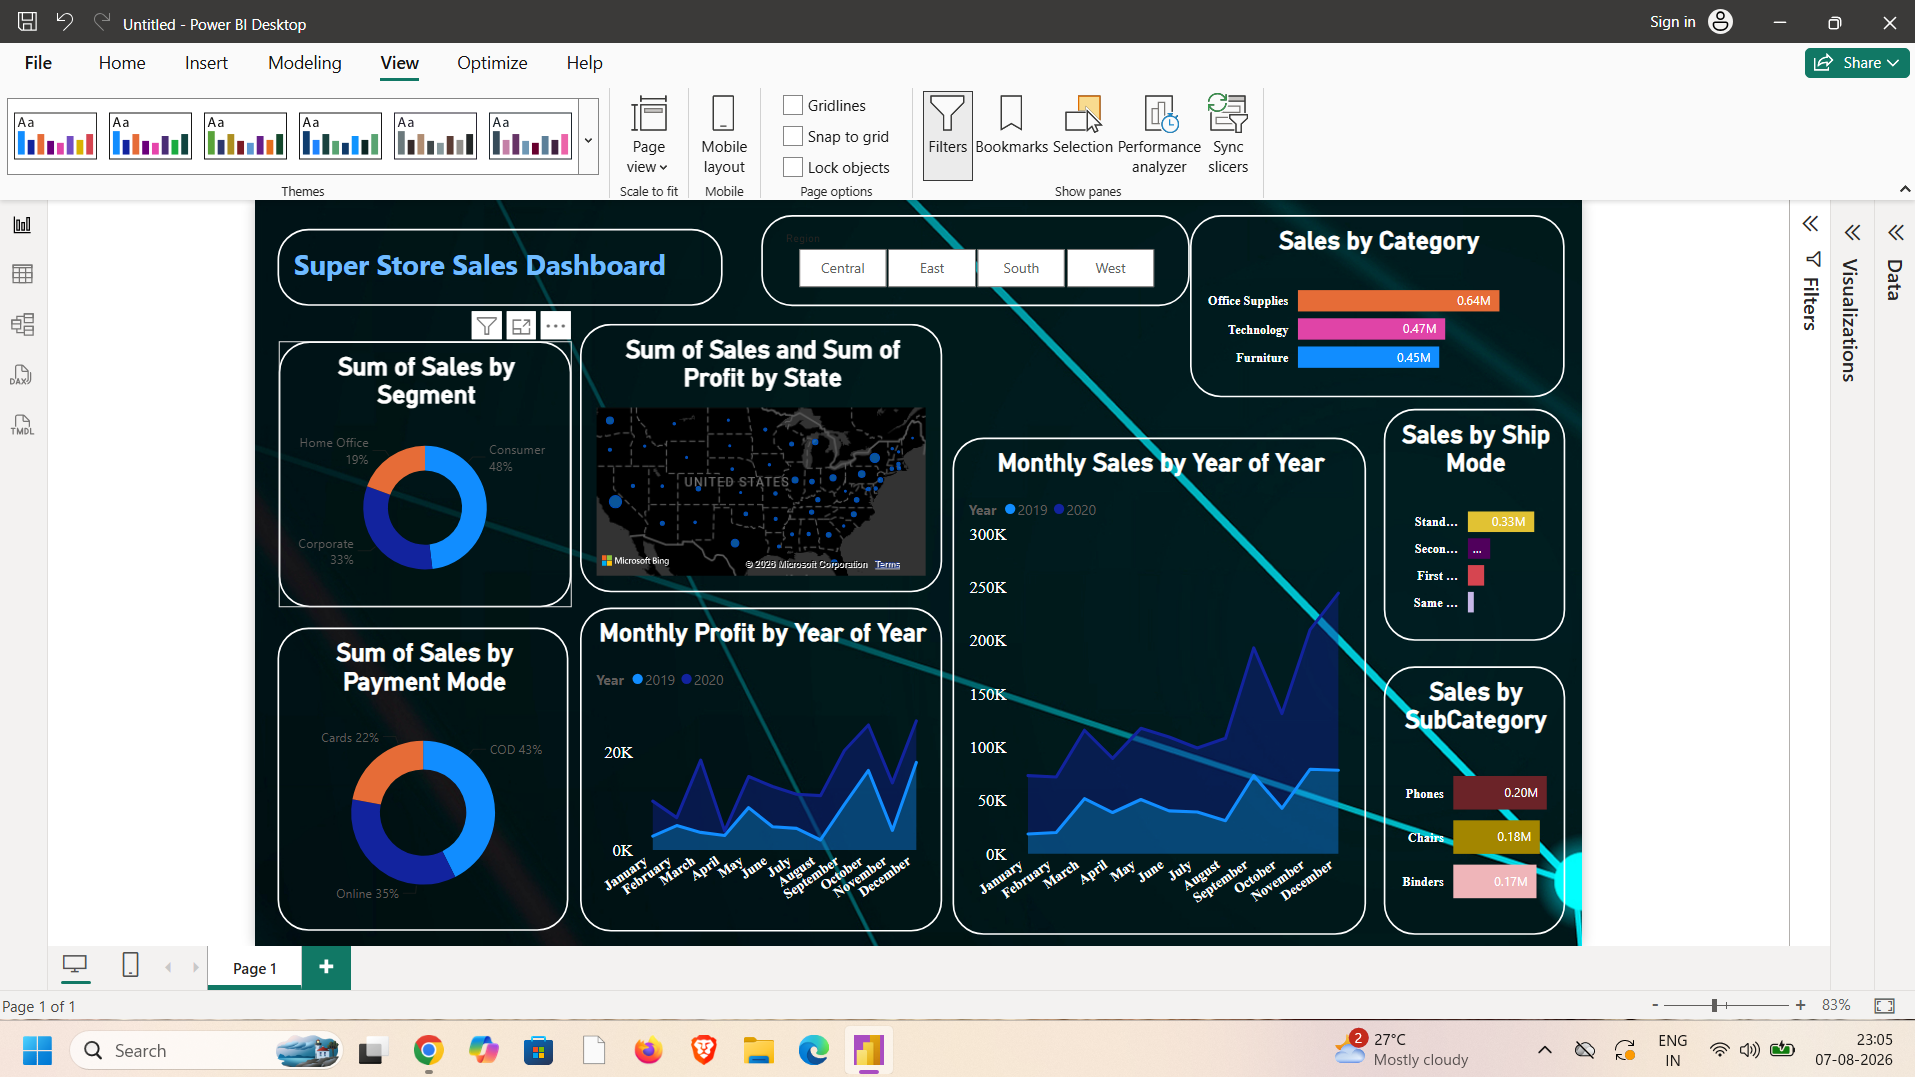

Layout of this report page (visuals, bound fields, positions):
{"tool":"powerbi","page":{"name":"Page 1","canvas":[1280,720],"ordinal":0},"visuals":[{"type":"clusteredBarChart","title":"Sales by Category","fields":{"Category":["SuperStore_Sales_Dataset.Category"],"Y":["Sum(SuperStore_Sales_Dataset.Sales)"]},"box":[902.4,14.5,361.9,176.1],"z":0},{"type":"clusteredBarChart","title":"Sales by SubCategory","fields":{"Category":["SuperStore_Sales_Dataset.Sub-Category"],"Y":["Sum(SuperStore_Sales_Dataset.Sales)"]},"box":[1089.4,450,174.9,259.4],"z":1},{"type":"clusteredBarChart","title":"Sales by Ship Mode","fields":{"Category":["SuperStore_Sales_Dataset.Ship Mode"],"Y":["Sum(SuperStore_Sales_Dataset.Sales)"]},"box":[1089.4,201.5,174.9,224.4],"z":2},{"type":"stackedAreaChart","title":"Monthly Sales by Year of Year","fields":{"Y":["Sum(SuperStore_Sales_Dataset.Sales)"],"Category":["SuperStore_Sales_Dataset.Order Date.Variation.Date Hierarchy.Month","SuperStore_Sales_Dataset.Order Date.Variation.Date Hierarchy.Day"],"Series":["SuperStore_Sales_Dataset.Order Date.Variation.Date Hierarchy.Year"]},"box":[673.2,229.2,399.3,480.2],"z":3},{"type":"stackedAreaChart","title":"Monthly Profit by Year of Year","fields":{"Category":["SuperStore_Sales_Dataset.Order Date.Variation.Date Hierarchy.Month","SuperStore_Sales_Dataset.Order Date.Variation.Date Hierarchy.Day"],"Series":["SuperStore_Sales_Dataset.Order Date.Variation.Date Hierarchy.Year"],"Y":["Sum(SuperStore_Sales_Dataset.Profit)"]},"box":[313.7,393.3,349.9,312.5],"z":4},{"type":"map","fields":{"Category":["SuperStore_Sales_Dataset.State"],"Size":["Sum(SuperStore_Sales_Dataset.Sales)"]},"box":[313.7,119.4,349.9,259.4],"z":5},{"type":"donutChart","fields":{"Category":["SuperStore_Sales_Dataset.Payment Mode"],"Y":["Sum(SuperStore_Sales_Dataset.Sales)"]},"box":[21.7,412.6,281.1,293.2],"z":6},{"type":"slicer","fields":{"Values":["SuperStore_Sales_Dataset.Region"]},"box":[477.8,20.5,413.8,88.1],"z":8},{"type":"textbox","box":[21.7,27.7,429.5,74.8],"z":9},{"type":"donutChart","fields":{"Category":["SuperStore_Sales_Dataset.Segment"],"Y":["Sum(SuperStore_Sales_Dataset.Sales)"]},"box":[22.9,136.3,282.3,257],"z":10}]}

Visuals, with their boxes on the page's 1280x720 design canvas (x1, y1, x2, y2). These are canvas units, not pixel positions in the 1915x1077 screenshot, which may show the page scaled, cropped or inside an application window:
"Sales by Category" clusteredBarChart: region(902, 14, 1264, 191)
"Sales by SubCategory" clusteredBarChart: region(1089, 450, 1264, 709)
"Sales by Ship Mode" clusteredBarChart: region(1089, 202, 1264, 426)
"Monthly Sales by Year of Year" stackedAreaChart: region(673, 229, 1072, 709)
"Monthly Profit by Year of Year" stackedAreaChart: region(314, 393, 664, 706)
map - SuperStore_Sales_Dataset.State x Sum(SuperStore_Sales_Dataset.Sales): region(314, 119, 664, 379)
donutChart - SuperStore_Sales_Dataset.Payment Mode x Sum(SuperStore_Sales_Dataset.Sales): region(22, 413, 303, 706)
slicer - SuperStore_Sales_Dataset.Region: region(478, 20, 892, 109)
textbox: region(22, 28, 451, 102)
donutChart - SuperStore_Sales_Dataset.Segment x Sum(SuperStore_Sales_Dataset.Sales): region(23, 136, 305, 393)
